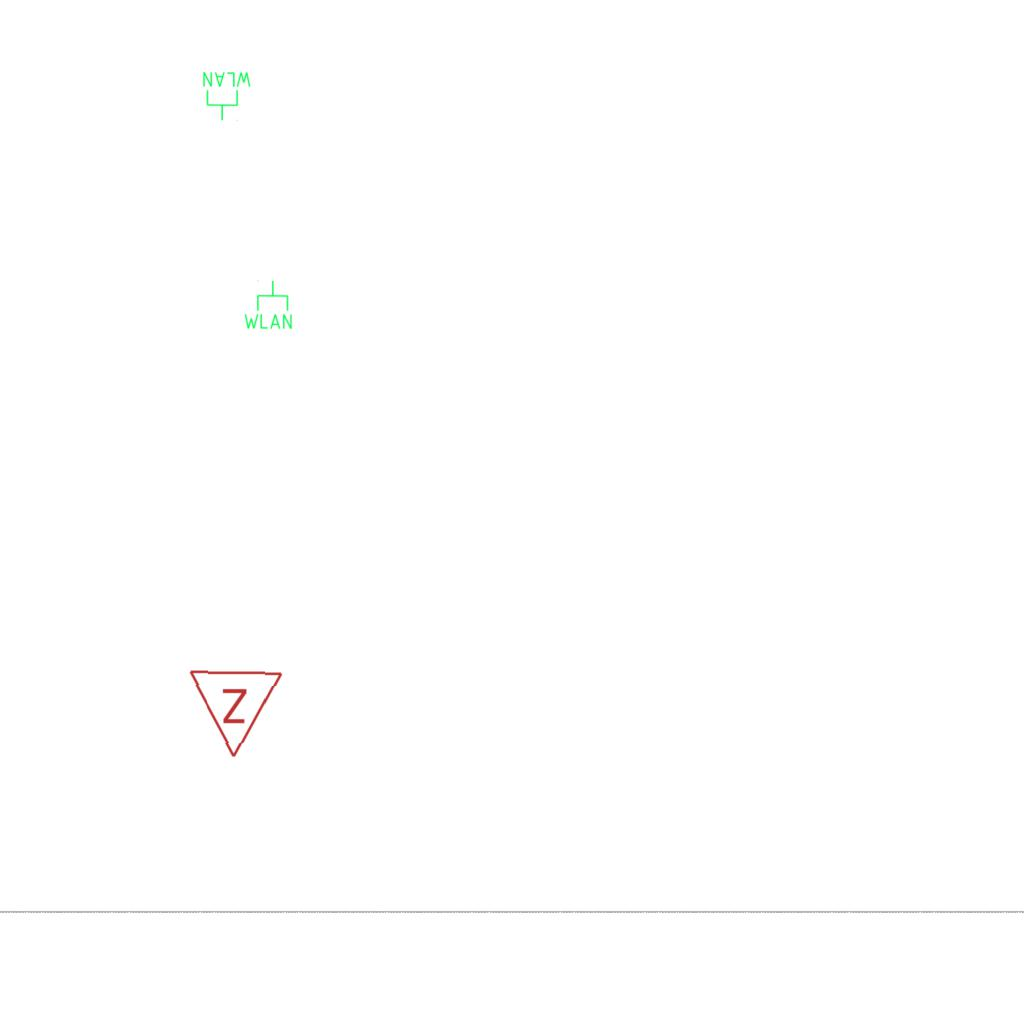WLAN: (242, 279, 294, 331), (201, 70, 253, 122)
Zimmersignalleuchte: (186, 663, 286, 765)
